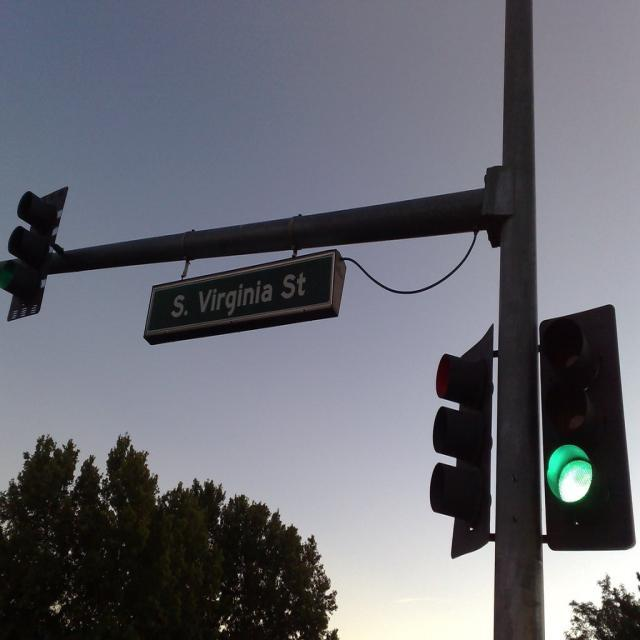off traffic light: (0, 181, 69, 323)
traffic light: (540, 298, 636, 551), (429, 320, 495, 556)
